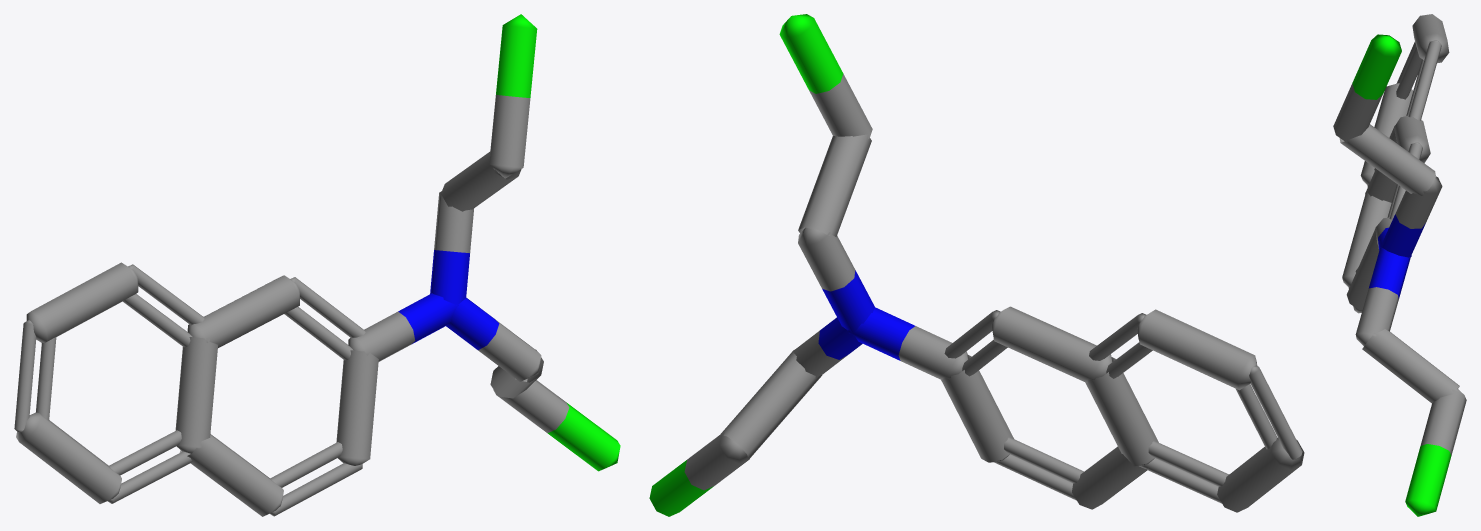
The model's file is chlorna.glb.
3 views of the same model, side by side, from view 1: azimuth 30°, elevation 25°; view 2: azimuth 150°, elevation 25°; view 3: azimuth 270°, elevation 25° (orthographic). The views are drawn at different scales.
Visible parts, largest first — view 1: node-geom0; view 2: node-geom0; view 3: node-geom0.
Boxes of the visible parts, left/top/right/bottom form: node-geom0: left=14, top=14, right=620, bottom=516; node-geom0: left=649, top=14, right=1304, bottom=516; node-geom0: left=1333, top=14, right=1466, bottom=516.
Size of the model in its own units: 9.57 by 7.31 by 2.03.
